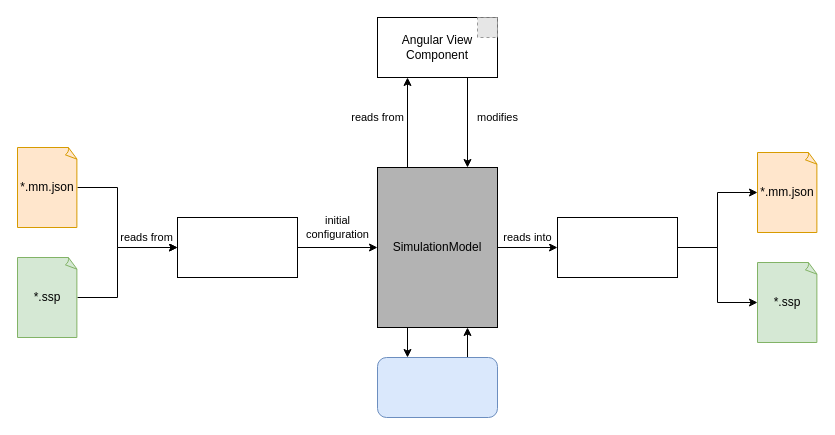
The diagram is 835 pixels wide and 435 high, and some of its shapes have lost their labels. Grey dashed boxes stand in for pictures. Here are the shapes that lost their labels. From the top down, the centre of each, then its label:
point 237,247: Importer
point 617,247: Exporter
point 437,387: In-memory representation of model
